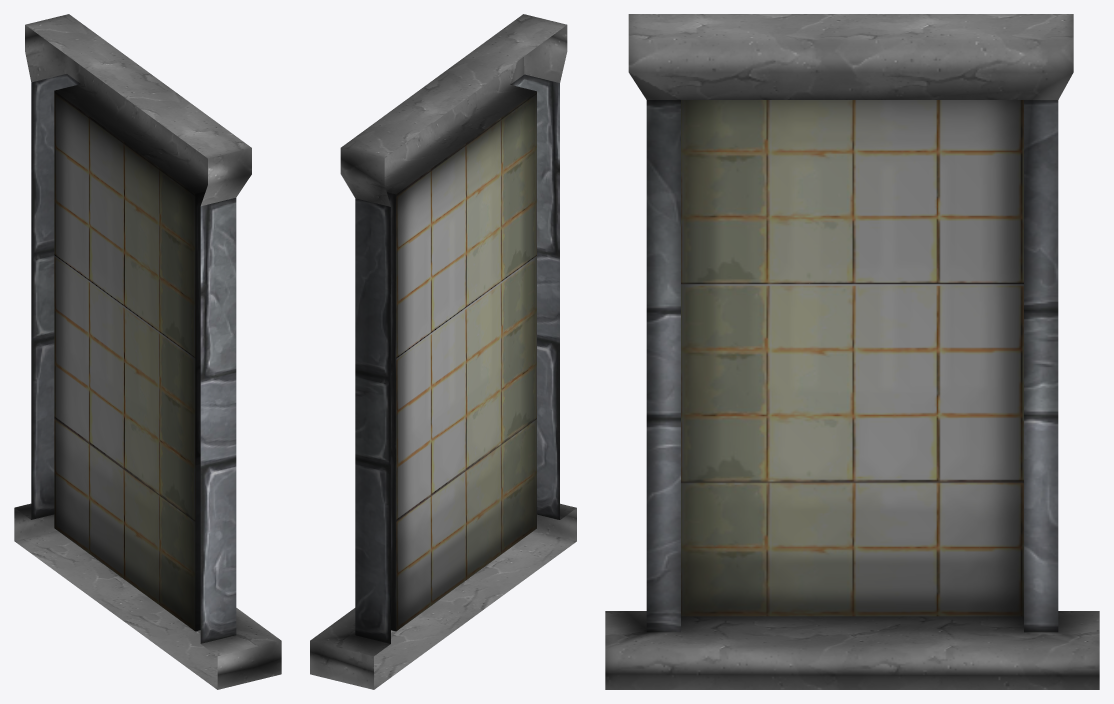
File: window.fbx
The picture shows the model from 3 angles, left to right: view 1: azimuth 30°, elevation 25°; view 2: azimuth 150°, elevation 25°; view 3: azimuth 270°, elevation 25°; orthographic projection. The views are drawn at different scales.
Visible parts, largest first — view 1: Cube_010; view 2: Cube_010; view 3: Cube_010.
Part boxes in pixels (x1,y1,x2,y2): Cube_010: (14, 14, 281, 689); Cube_010: (310, 14, 576, 689); Cube_010: (605, 14, 1099, 689).
Bounding box in the file's own units: 0.4373 × 3.42 × 2.4.
